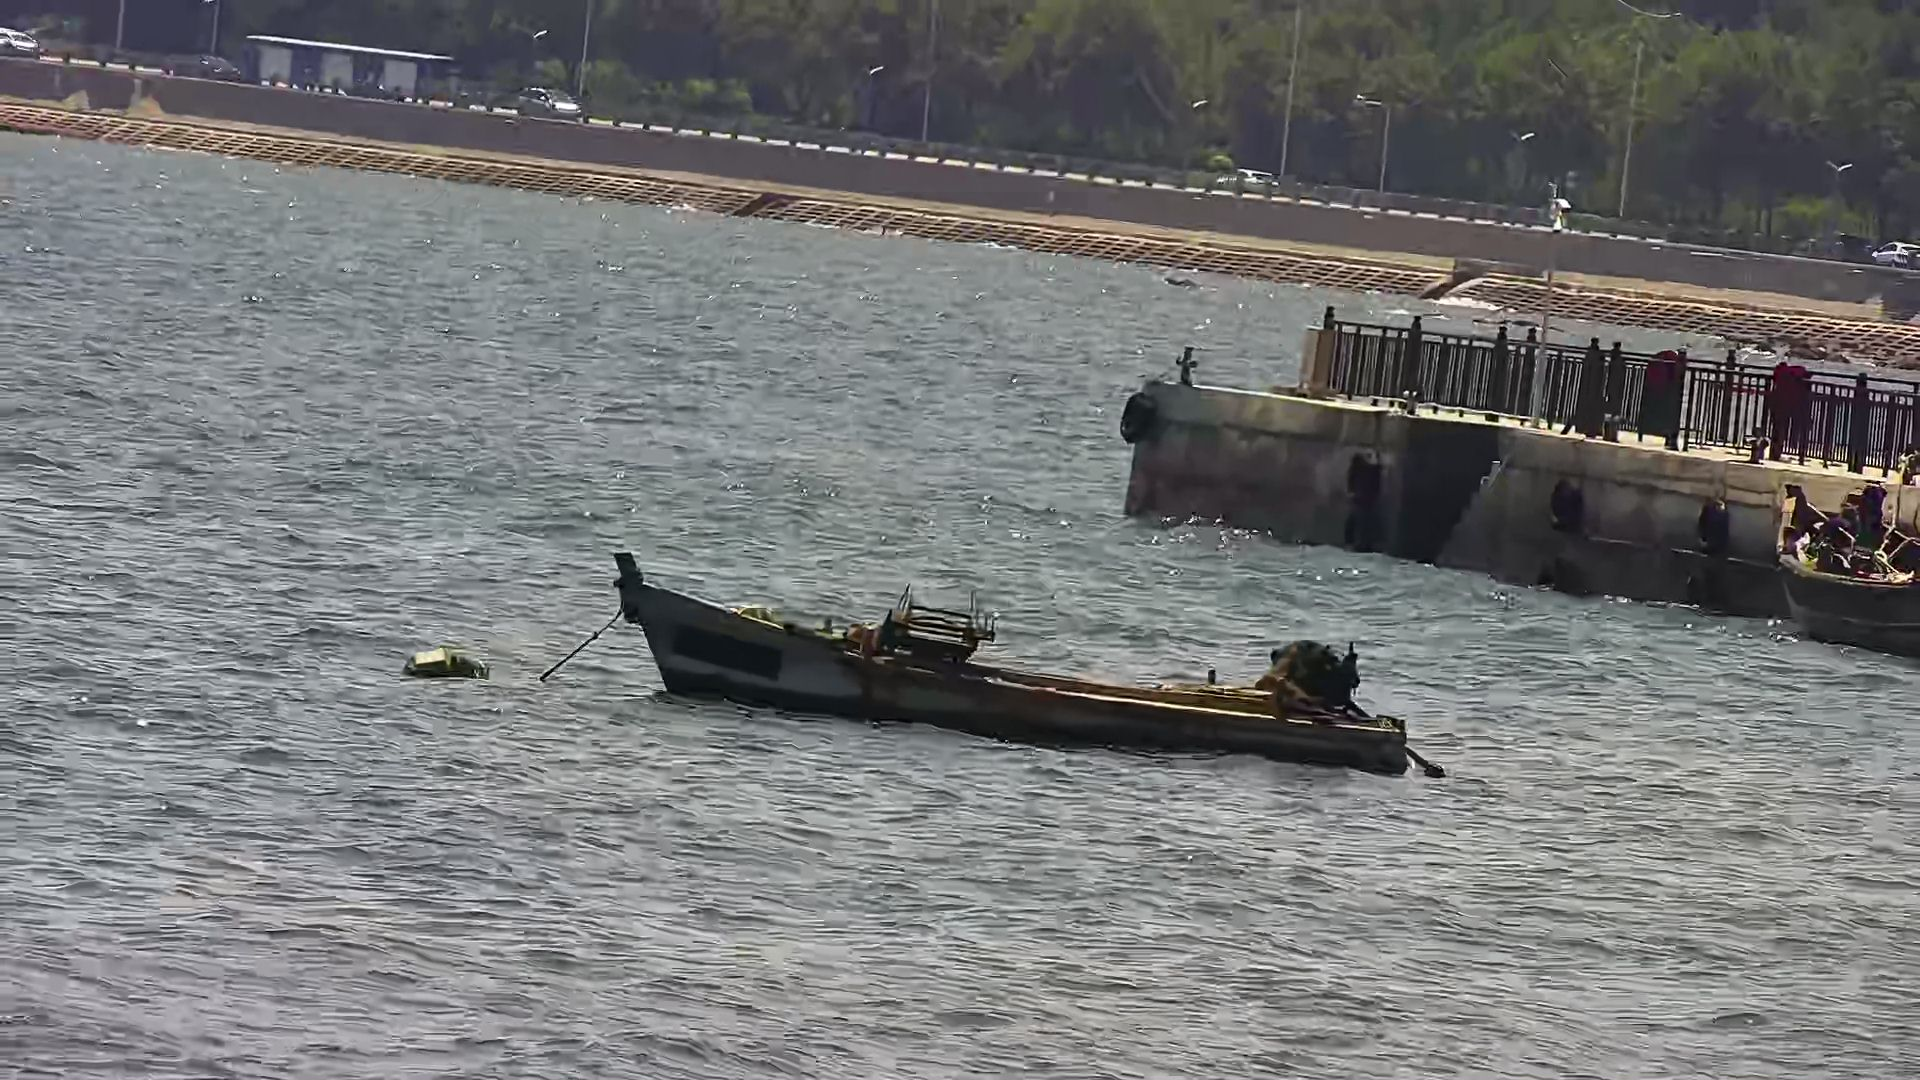boat: (579, 545, 1452, 796), (1760, 475, 1920, 651)
harbor: (1098, 284, 1920, 634)
rubbish: (382, 632, 497, 692)
